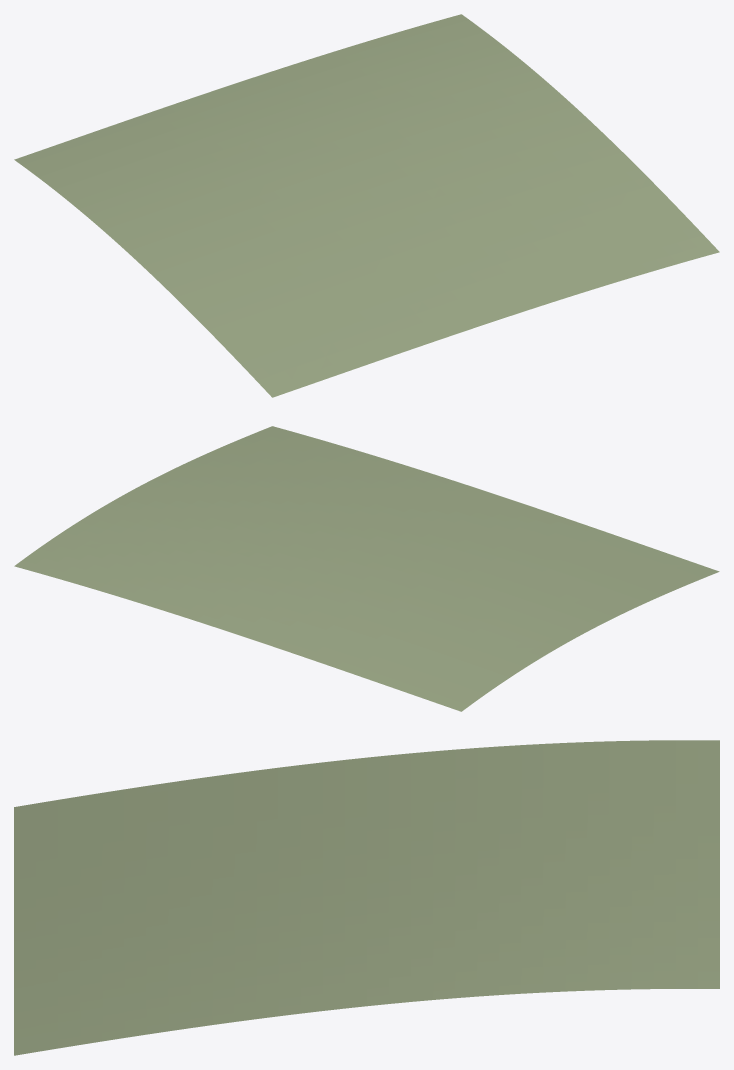
File: valley-1-15.glb
The picture shows the model from 3 angles, top to bottom: view 1: azimuth 30°, elevation 25°; view 2: azimuth 150°, elevation 25°; view 3: azimuth 270°, elevation 25°; orthographic projection. The views are drawn at different scales.
Parts seen in each view (by area): view 1: valley-1-15; view 2: valley-1-15; view 3: valley-1-15.
Part boxes in pixels (bbox=[...]): valley-1-15: bbox=[14, 14, 719, 397]; valley-1-15: bbox=[14, 426, 719, 711]; valley-1-15: bbox=[14, 740, 719, 1055].
Size of the model in its own units: 256 by 46.67 by 256.
